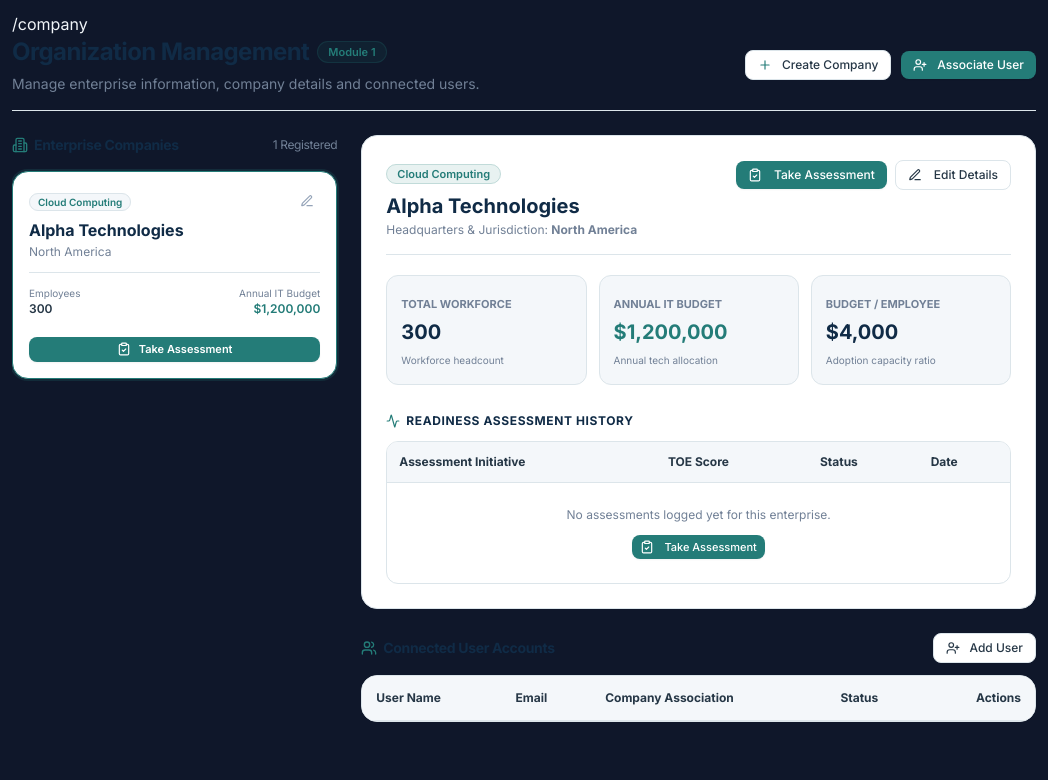
Test: End-to-End Flow: Company -> Assessment -> Dashboard › renders "Take Assessment" button on CompanyPage and navigates with companyId query param
Expected: the heading "Alpha Technologies" below "Enterprise Companies" is shown, 29,220 -> 184,240
# Click Take Assessment
Click the button "Take Assessment" below "Employees". click: [175, 349]
box: 29,337 -> 320,362
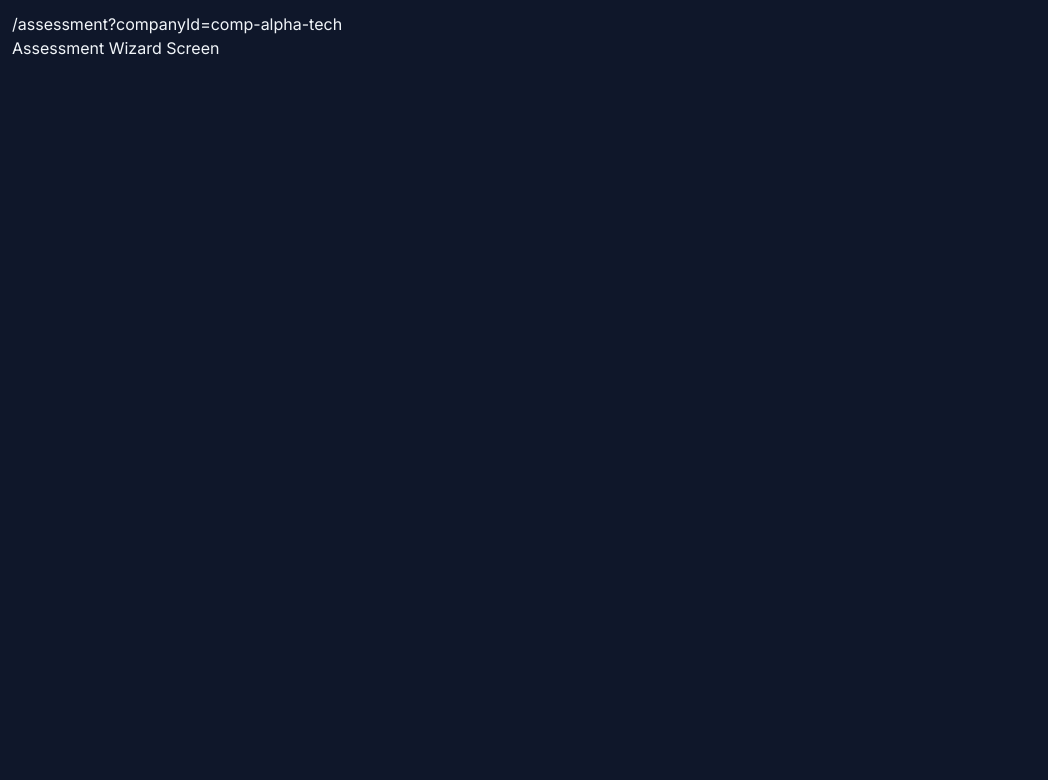
Expected: the text with test id "current-location" reads "/assessment?companyId=comp-alpha-tech", 12,14 -> 342,34
